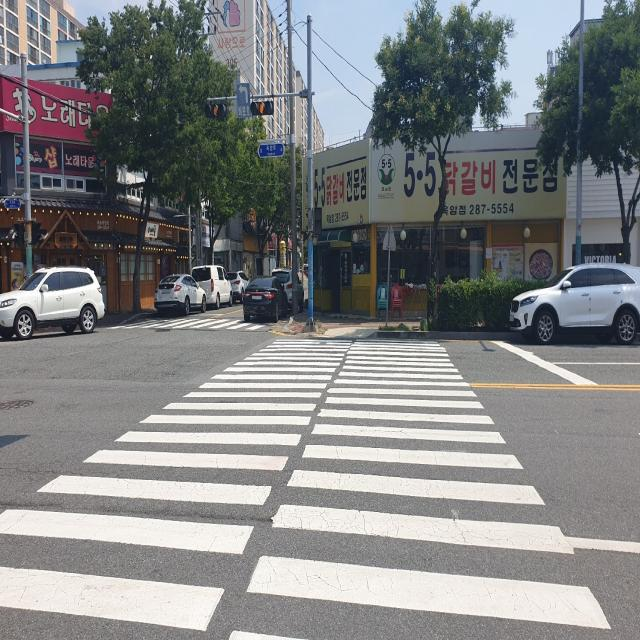횡단보도: (0, 340, 612, 640), (121, 313, 276, 334)
